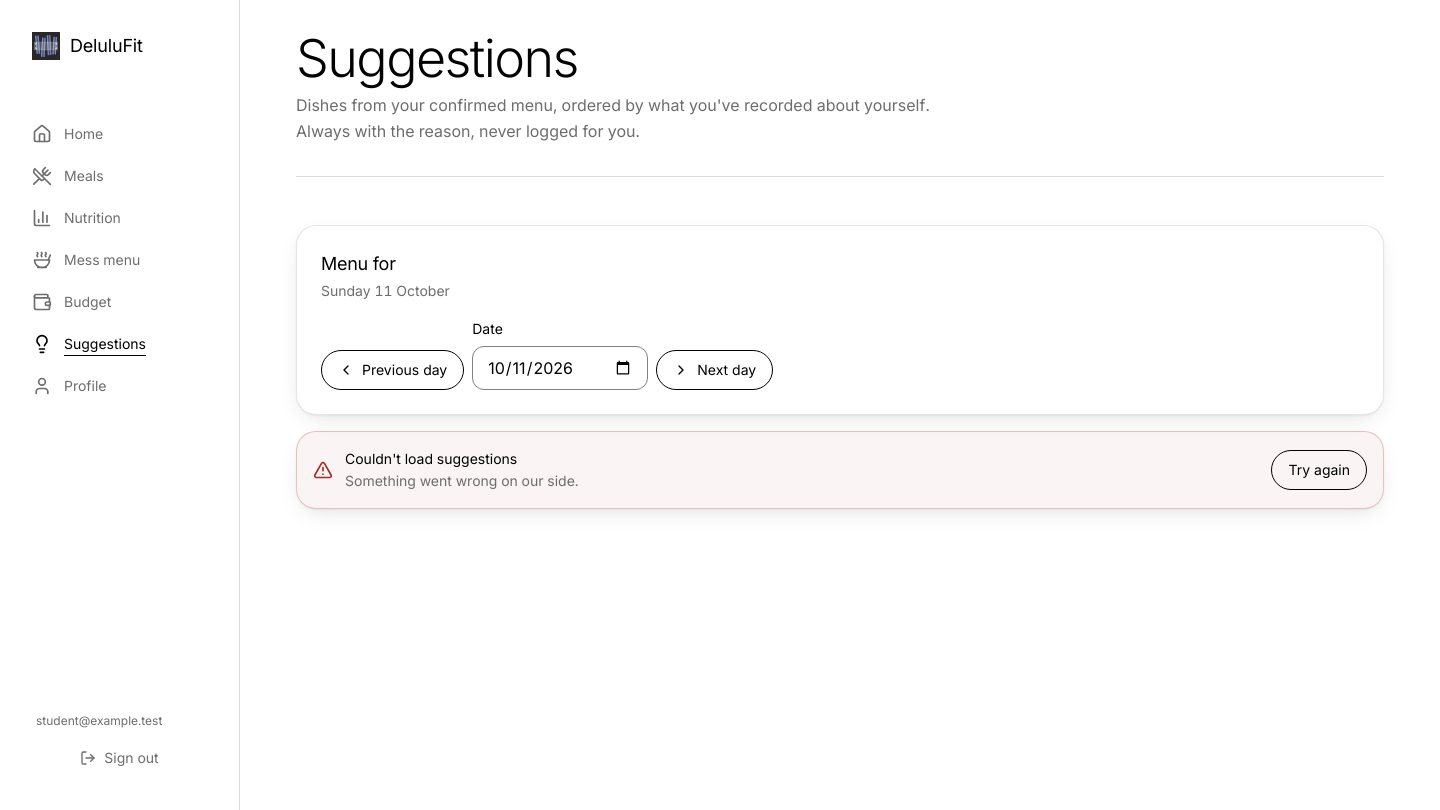
Test: suggestions page for a real account › retries a failed suggestions request on demand
Expected: the text "Couldn't load suggestions" is shown, top-left (345, 450), bottom-right (517, 467)
Click the button "Try again": (1319, 470) top-left (1272, 450), bottom-right (1367, 490)
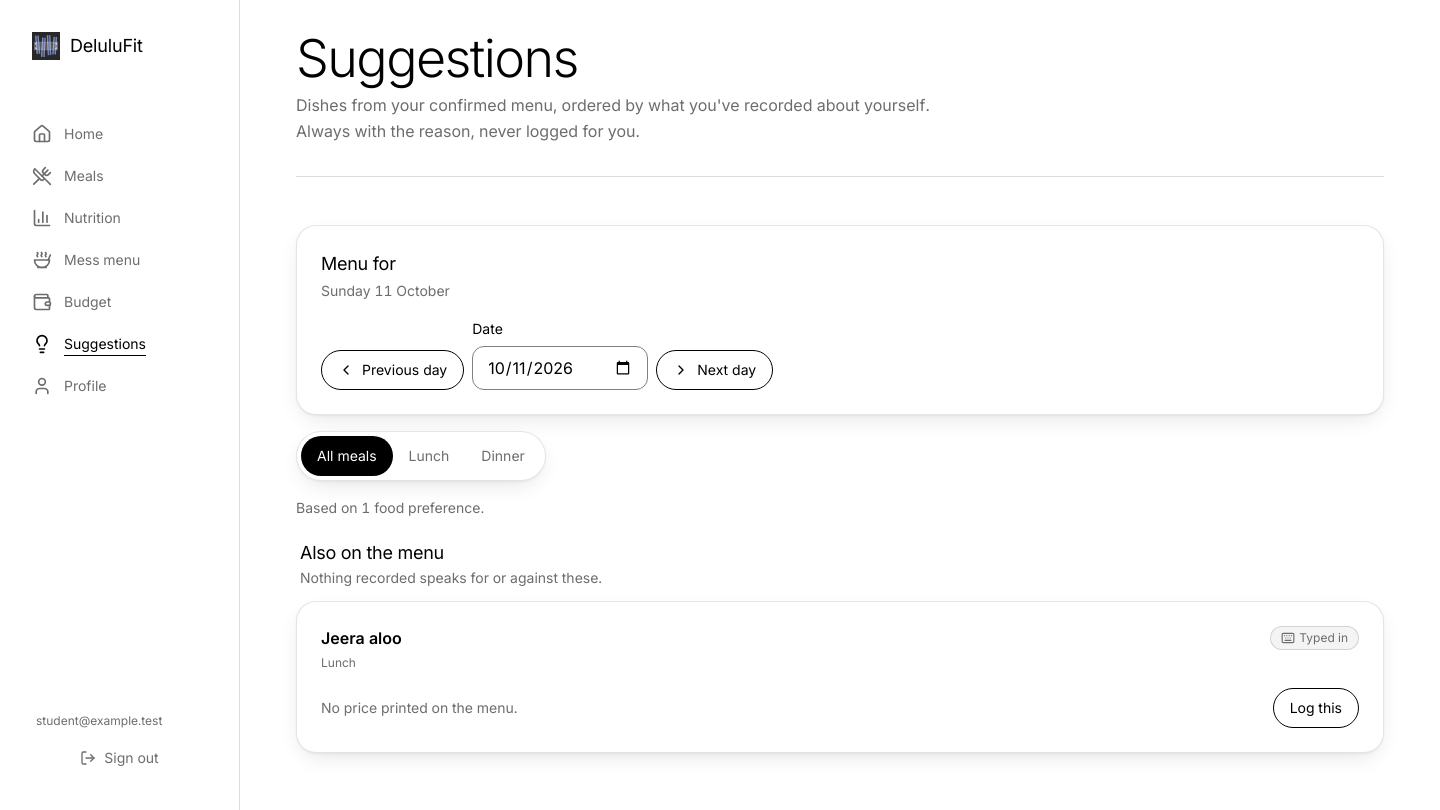
Now the element "Jeera aloo" is shown, box top-left (296, 601), bottom-right (1384, 753)
